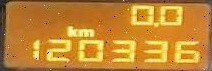-: (151, 21, 158, 27)
0: (76, 38, 103, 61), (128, 4, 153, 25), (158, 4, 182, 24)
1: (30, 39, 38, 60)
2: (44, 38, 70, 61)
3: (108, 39, 135, 62), (141, 39, 166, 62)
6: (172, 40, 199, 63)
X: (77, 27, 94, 36), (65, 25, 77, 35)
